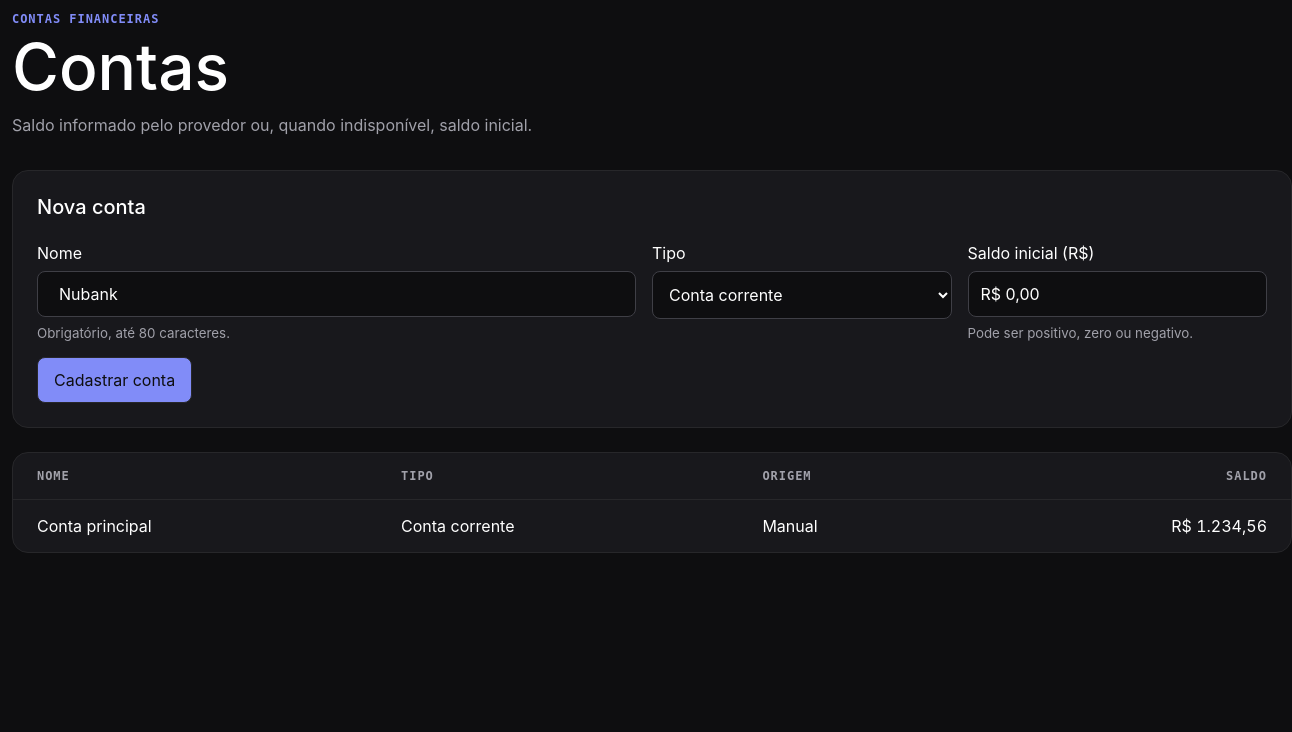
Accounts route › manual creation › posts only manual fields with balance 0 and appends the response
The image size is (1292, 732).
Step 1. Click the submit button → (115, 380), box [37,357,192,403]
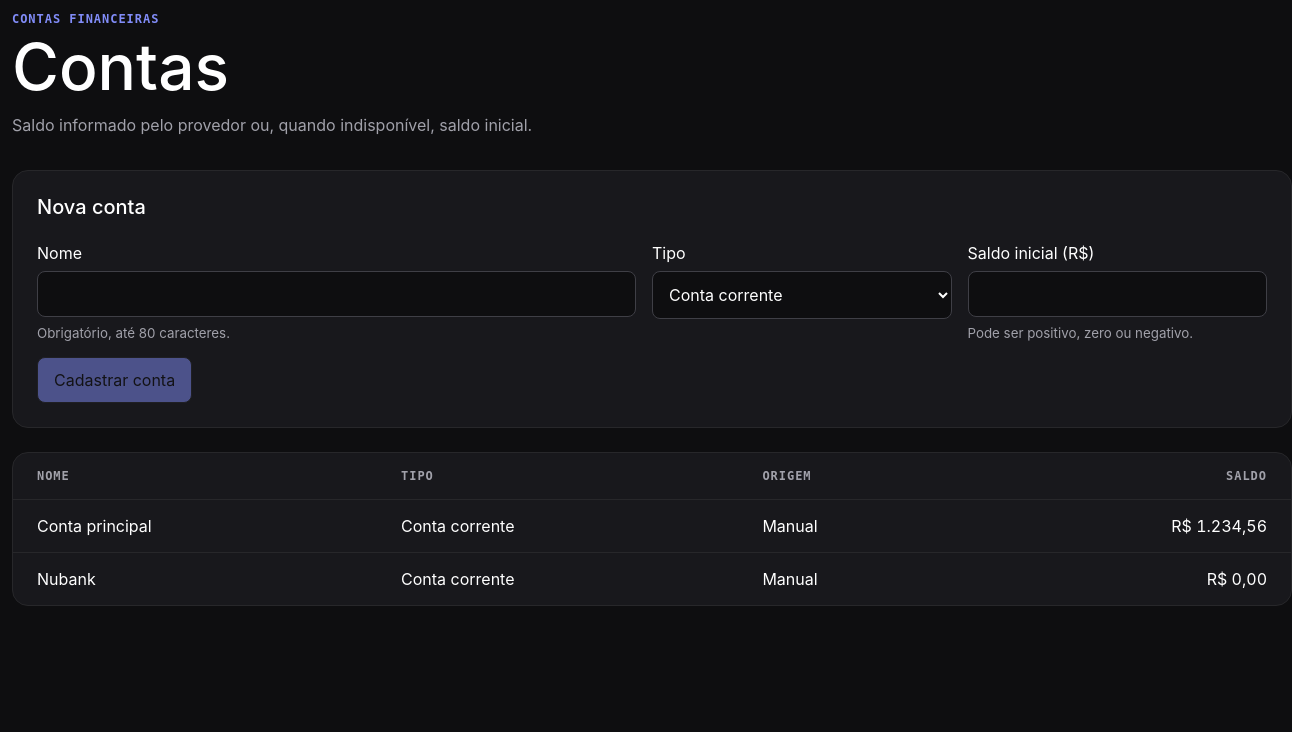
Result: the table shows "Nubank" at [37,569,96,589]
